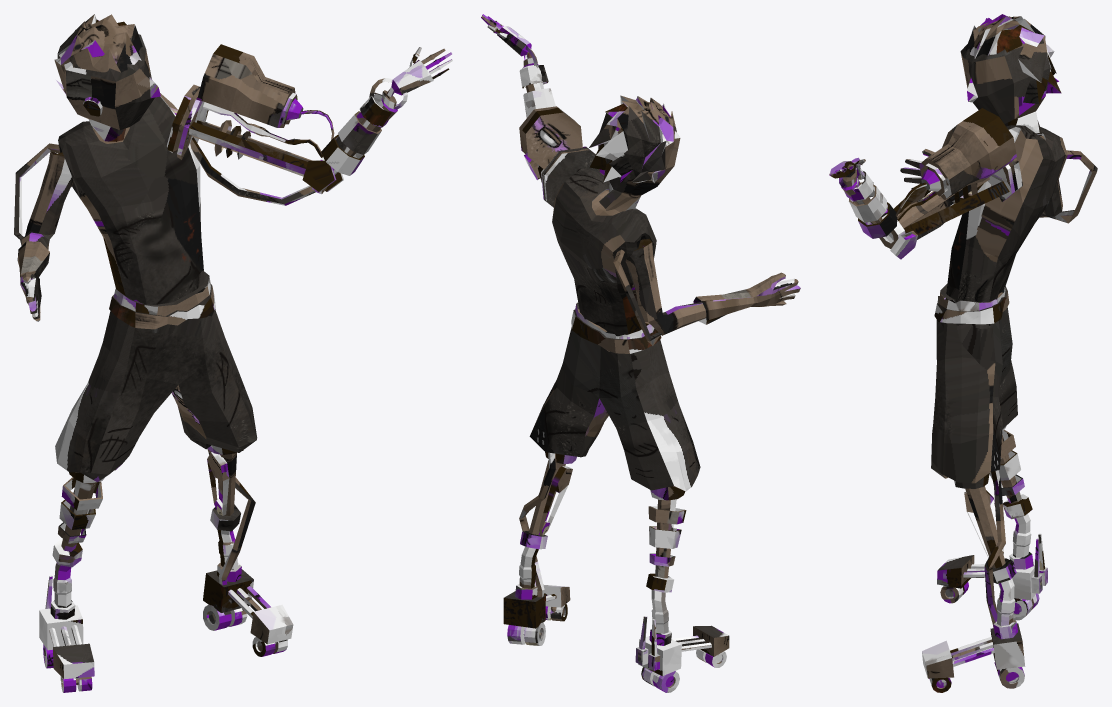
Rendered from CyborgFINALAnimation_000047.obj.
3 views of the same model, side by side, from view 1: azimuth 30°, elevation 25°; view 2: azimuth 150°, elevation 25°; view 3: azimuth 270°, elevation 25° (orthographic). The views are drawn at different scales.
Visible parts, largest first — view 1: CyborgMesh_Cube.002; view 2: CyborgMesh_Cube.002; view 3: CyborgMesh_Cube.002.
Part boxes in pixels (<box>): CyborgMesh_Cube.002: <box>14,14,452,692</box>; CyborgMesh_Cube.002: <box>481,14,800,692</box>; CyborgMesh_Cube.002: <box>829,14,1097,692</box>.
Size of the model in its own units: 6.02 by 9.55 by 3.79.
